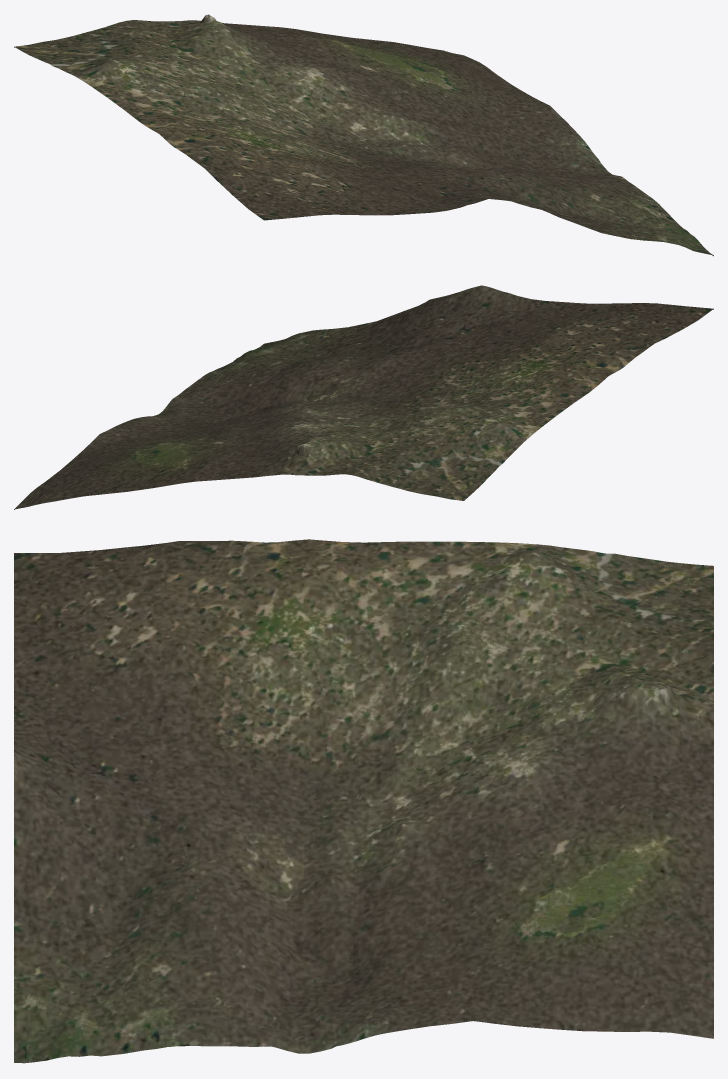
3 views of the same model, one above another, from view 1: azimuth 30°, elevation 25°; view 2: azimuth 150°, elevation 25°; view 3: azimuth 270°, elevation 25° (orthographic). The views are drawn at different scales.
Bounding box in the file's own units: 500 × 170 × 481.
1 material, 1 textured.
